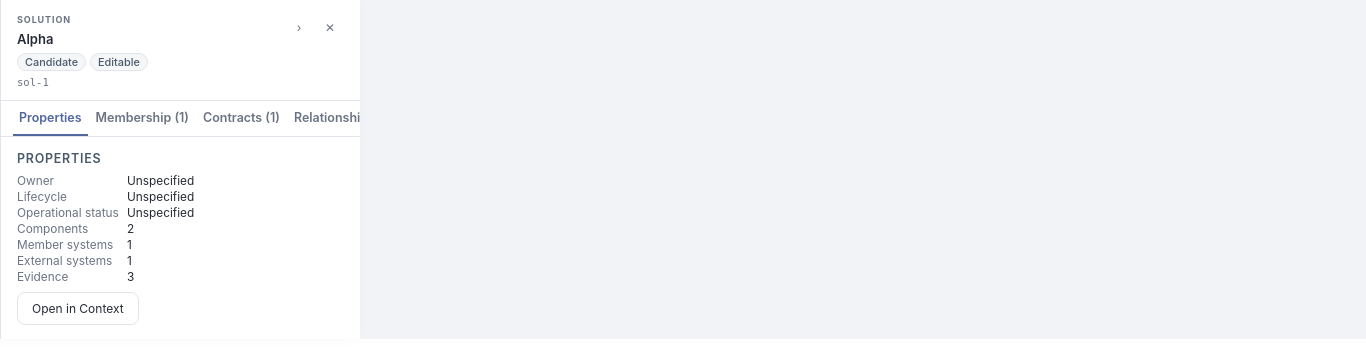
Scenario: SolutionLandscapeInspector › lists incoming and outgoing relationships separately
Click the button "Relationships (2)".
click(345, 118)  # box x1=288 y1=101 x2=401 y2=136
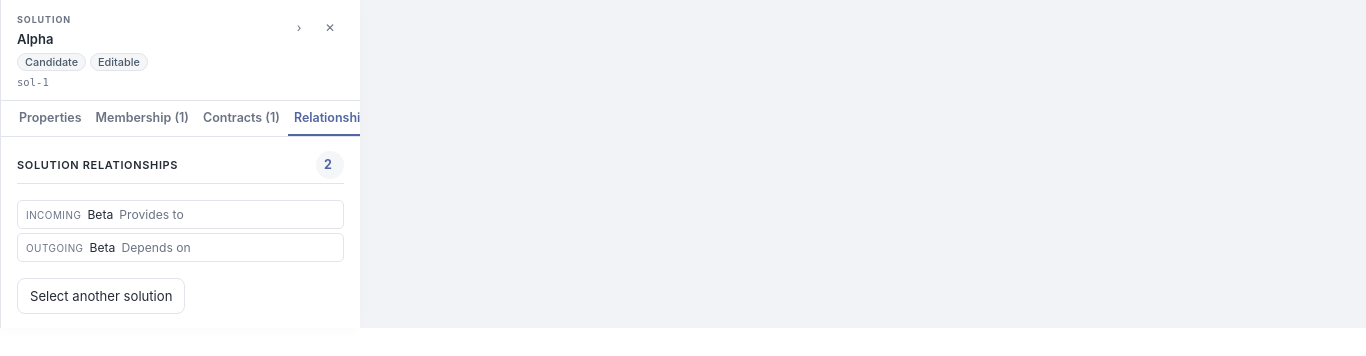
Expected: the list with class "solution-landscape-relationship-list" shows "Incoming", x1=17 y1=200 x2=344 y2=229
Expected: the list with class "solution-landscape-relationship-list" shows "Outgoing", x1=17 y1=233 x2=344 y2=262
Expected: the list with class "solution-landscape-relationship-list" shows "Beta", x1=17 y1=200 x2=344 y2=229
